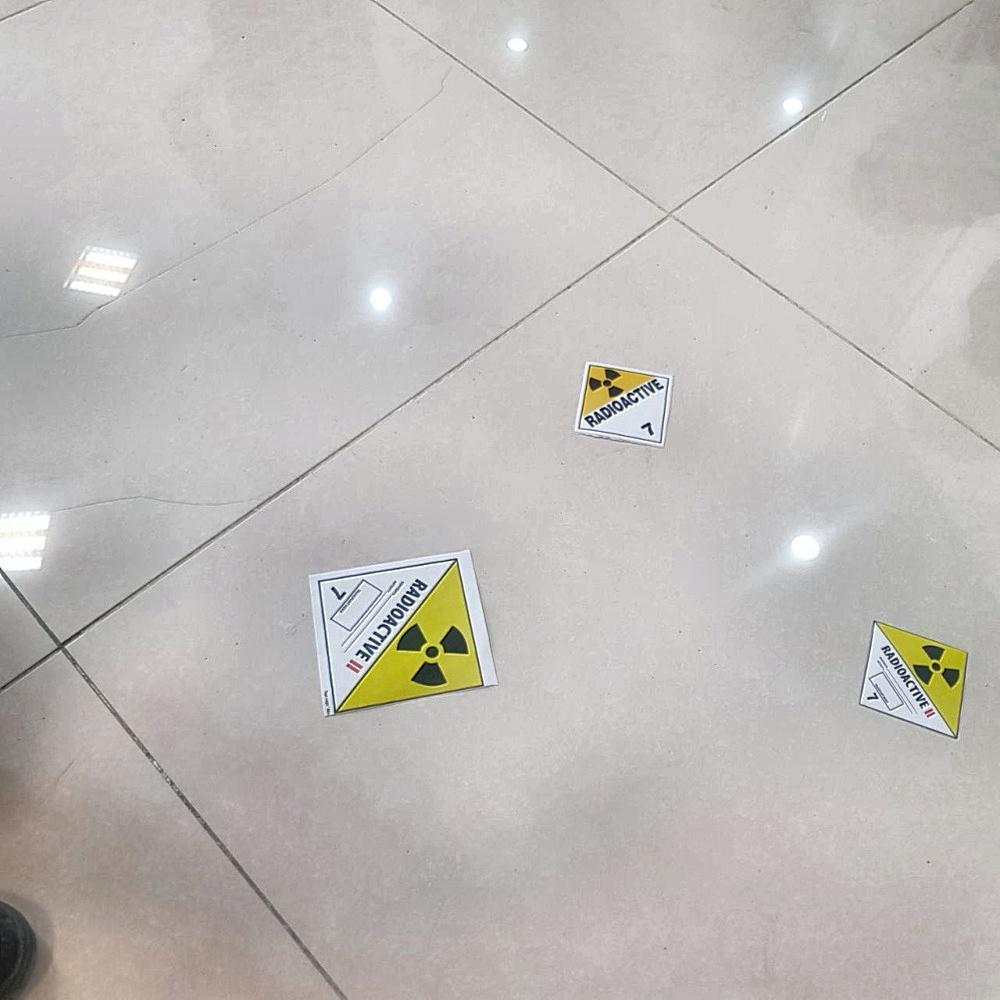radioactive: (309, 548, 496, 719), (854, 617, 973, 742), (572, 361, 675, 455)
